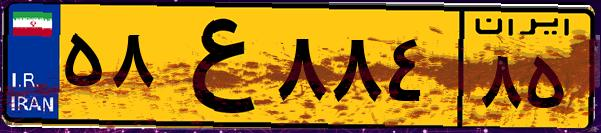4: (385, 28, 445, 110)
5: (57, 26, 110, 100), (525, 38, 570, 115)
8: (270, 28, 330, 110), (330, 28, 385, 110), (475, 38, 525, 113), (110, 28, 158, 98)
ع: (158, 12, 270, 120)
